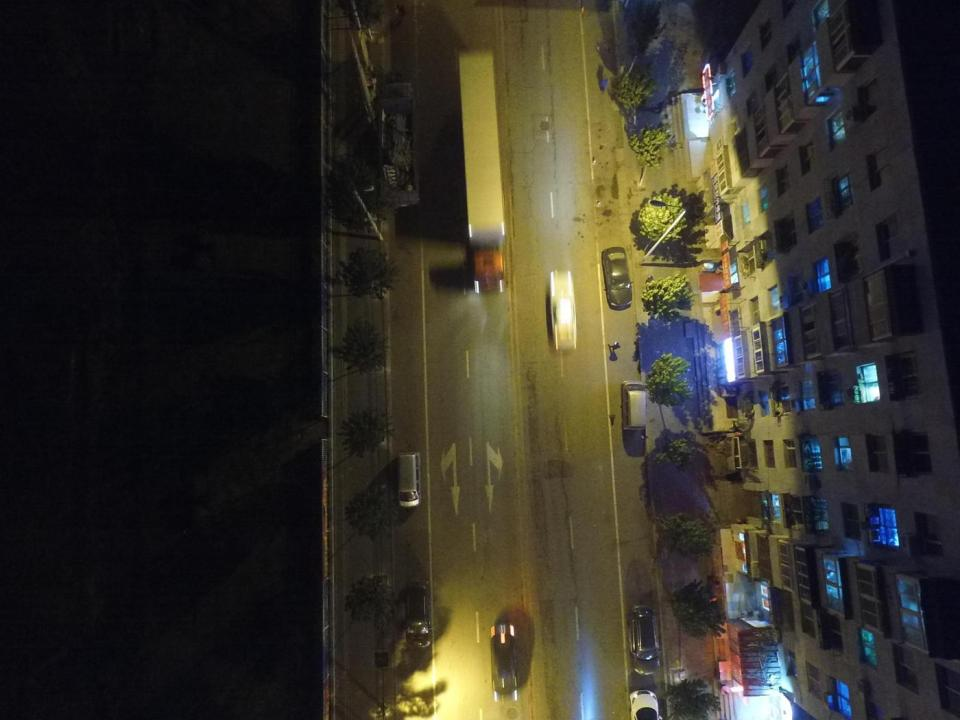car: (550, 272, 576, 349), (601, 246, 632, 309), (491, 623, 516, 694), (629, 690, 662, 720)
truck: (457, 50, 505, 294), (380, 82, 419, 207)
van: (627, 605, 660, 675), (406, 580, 432, 647), (397, 452, 422, 507), (622, 381, 645, 430)
